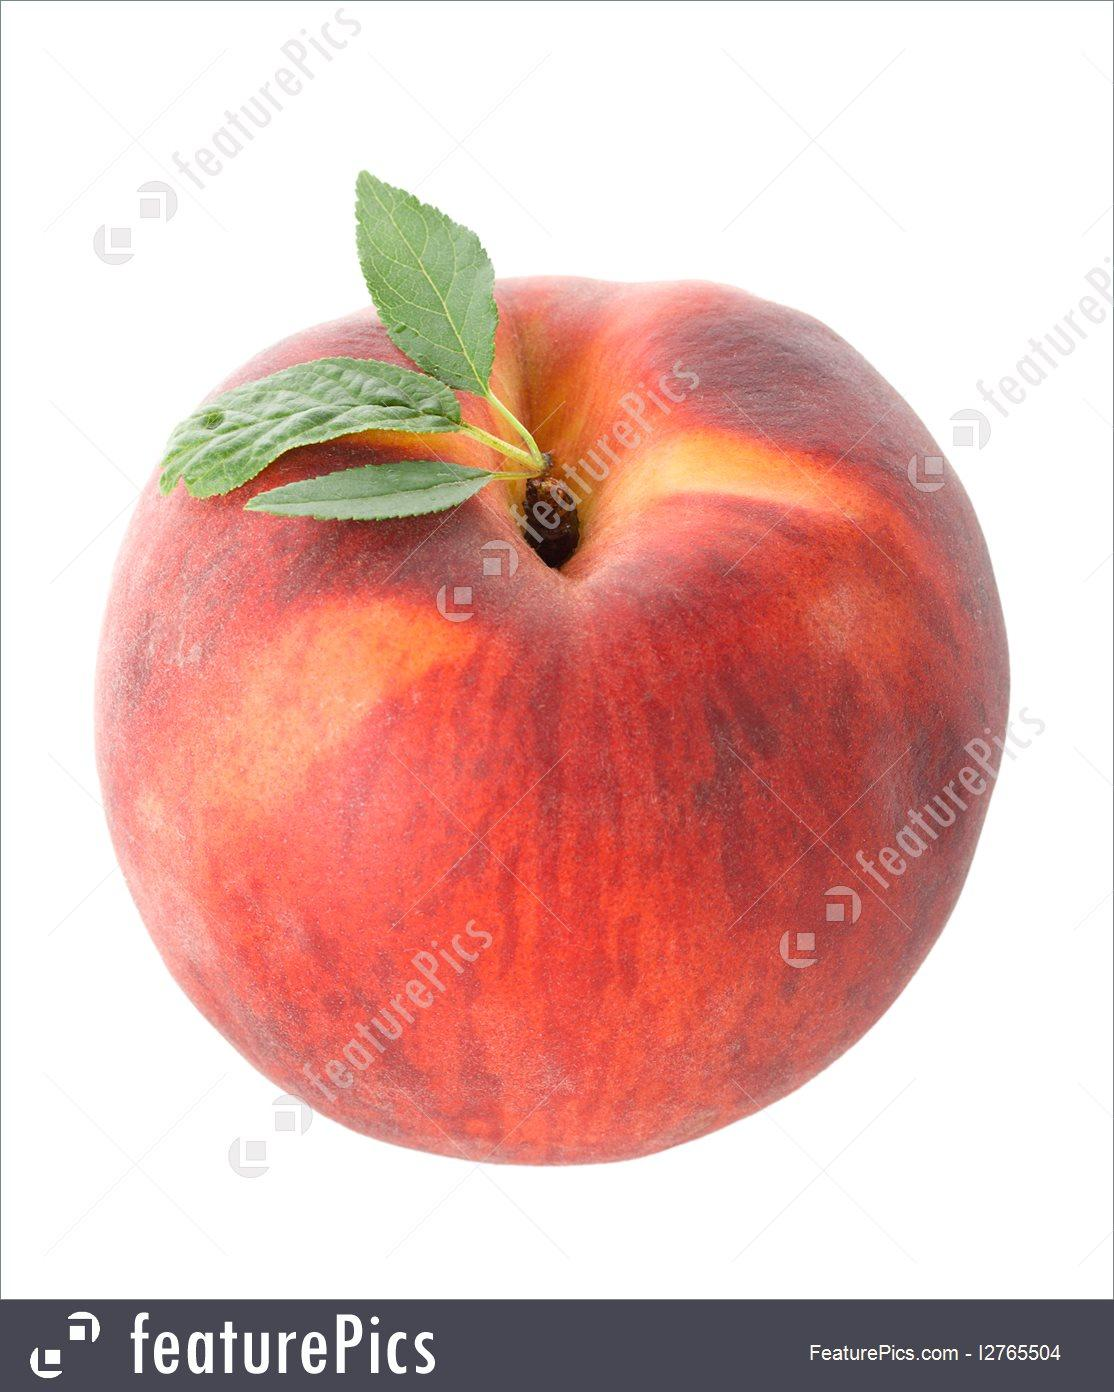Peach leaf: (143, 360, 463, 489), (336, 162, 505, 390), (236, 445, 502, 540)
